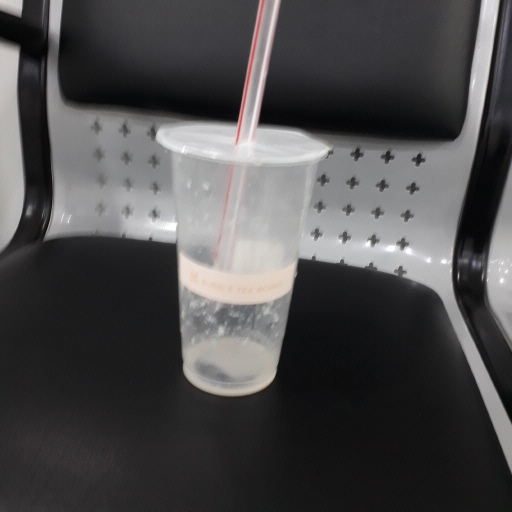Plastic_2: (156, 2, 331, 394)
